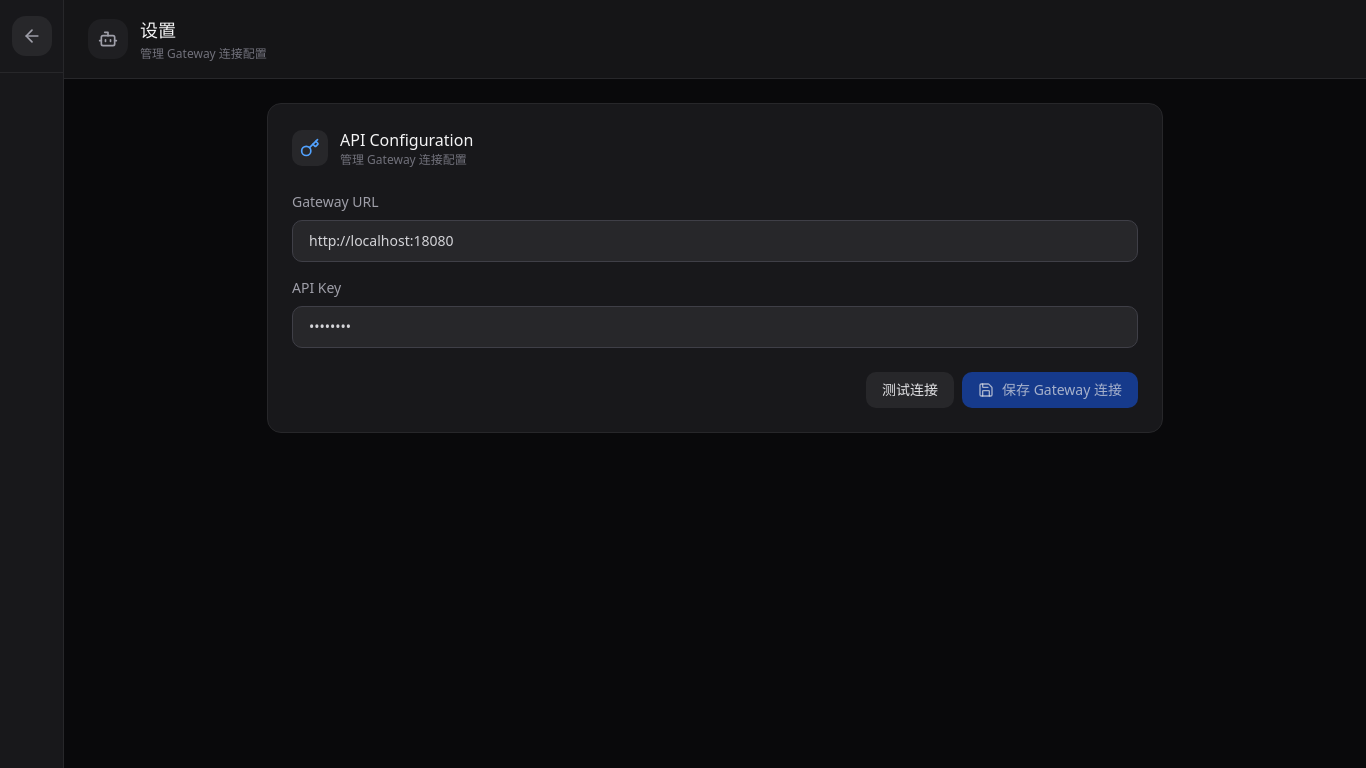
Test: testing gateway connection surfaces authentication failures
Replace the text in the field labelled "Gateway URL" with "http://localhost:3100" at (715, 241), box [292,220,1138,262]
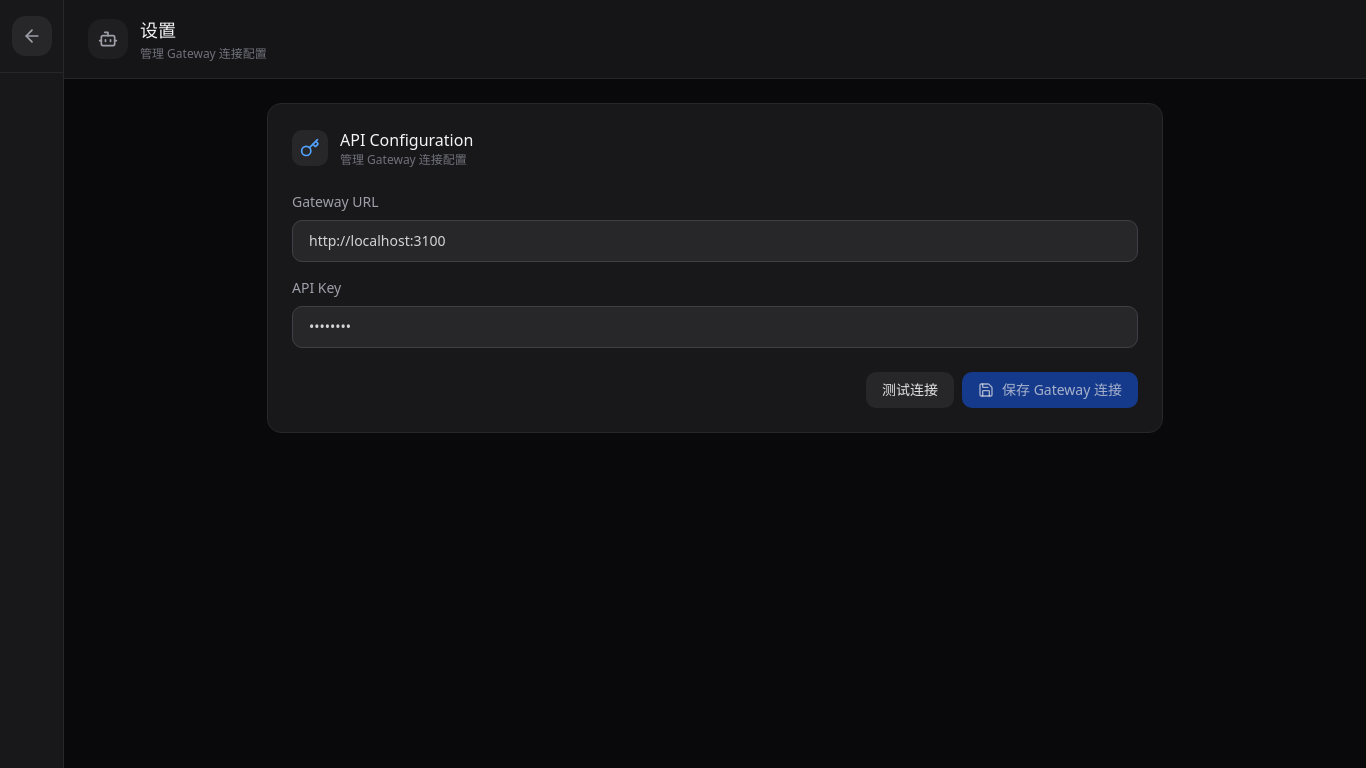
Type "bad-key" into the password field named "Gateway API Key".
click(715, 327); type("bad-key")  # box [292,306,1138,348]
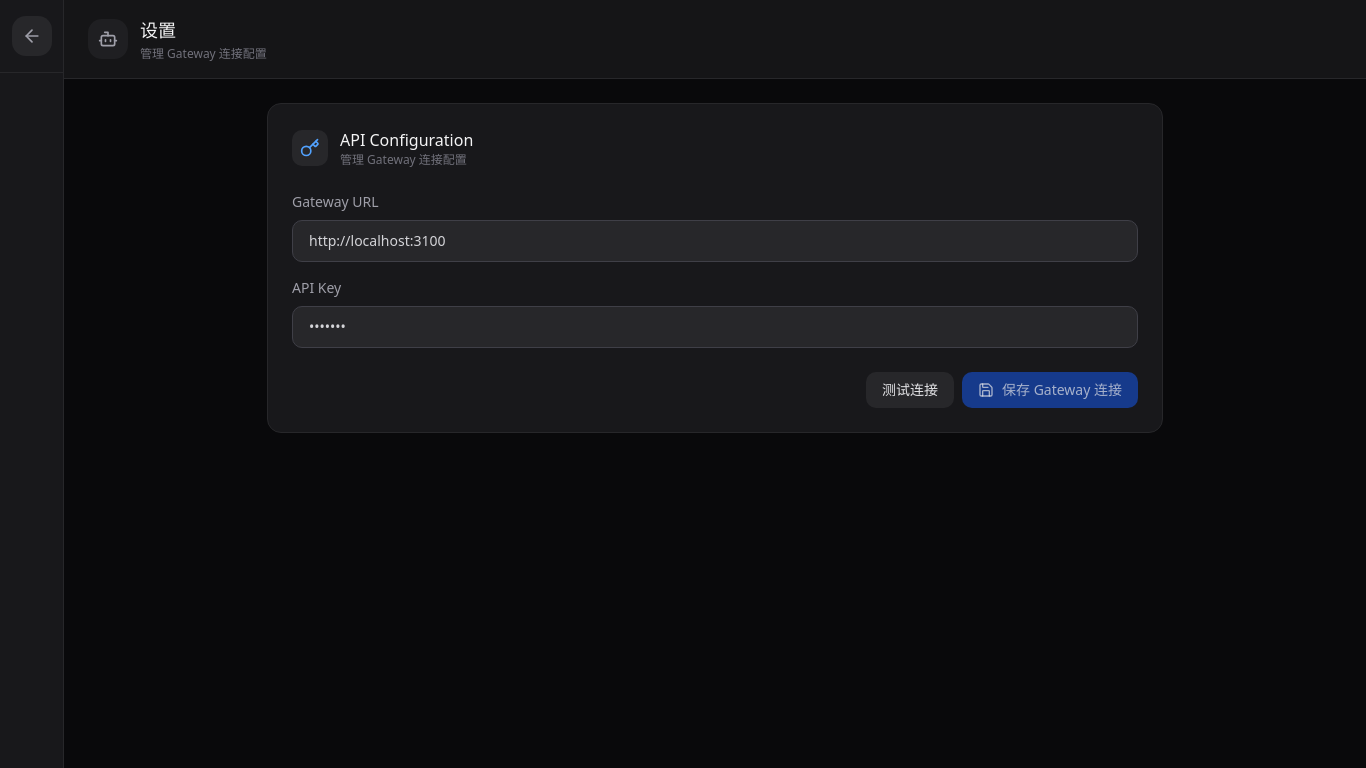
Click the button with aria-label "Test Gateway Connection".
click(910, 390)  # box [866,372,954,408]
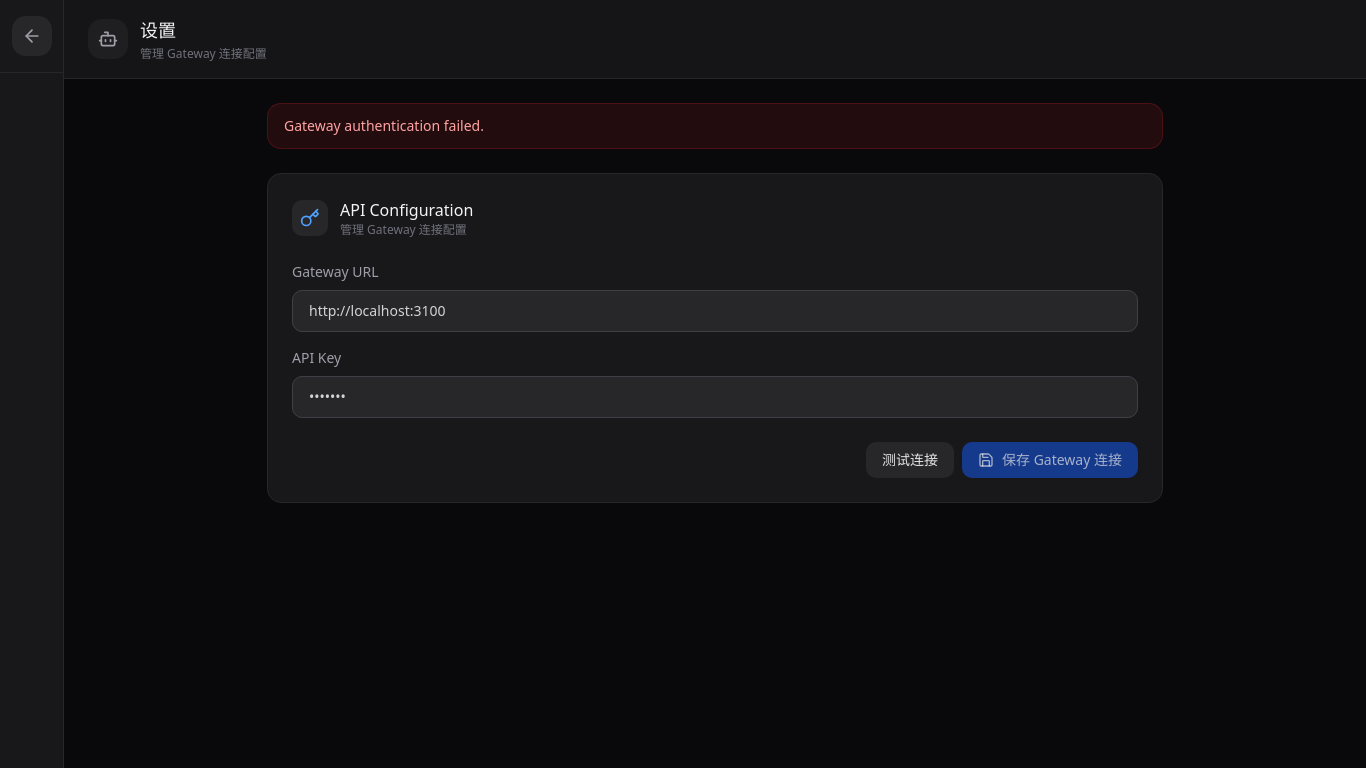
expect the text "Gateway authentication failed." is shown: met, box [267,103,1163,149]
